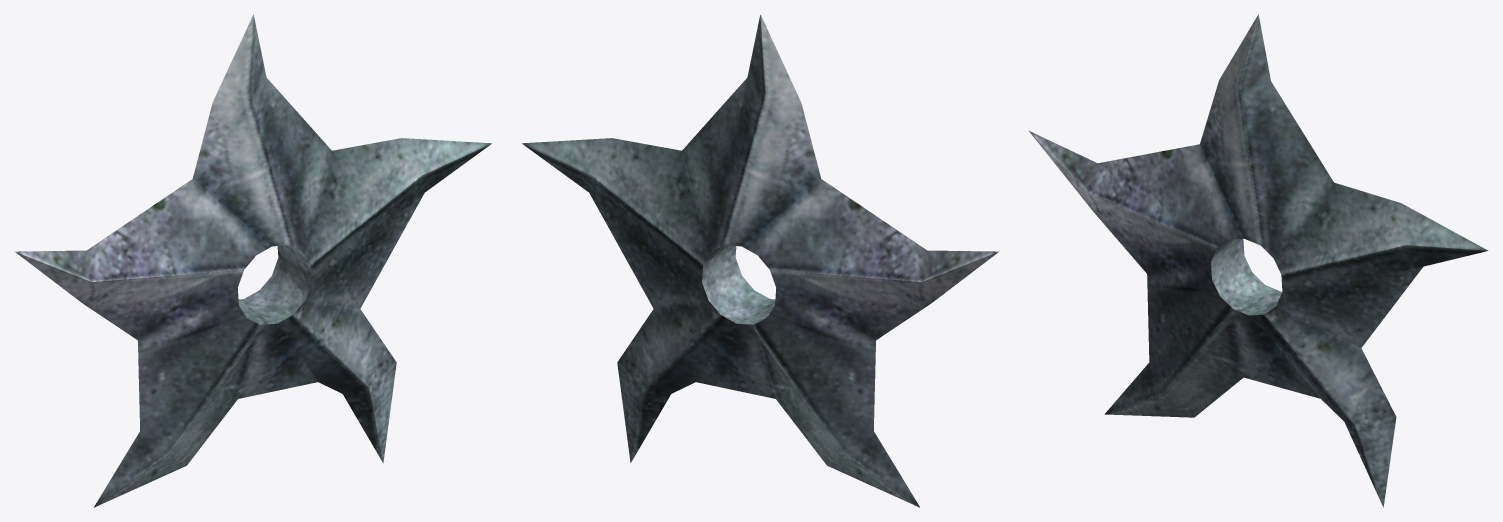
The model's file is Suriken.FBX.
3 views of the same model, side by side, from view 1: azimuth 30°, elevation 25°; view 2: azimuth 150°, elevation 25°; view 3: azimuth 330°, elevation 25° (orthographic). The views are drawn at different scales.
Parts seen in each view (by area): view 1: Suriken; view 2: Suriken; view 3: Suriken.
Boxes of the visible parts, <box> form: Suriken: <box>15,14,491,507</box>; Suriken: <box>522,14,998,507</box>; Suriken: <box>1028,14,1488,507</box>.
Size of the model in its own units: 19.86 by 19.1 by 2.42.
